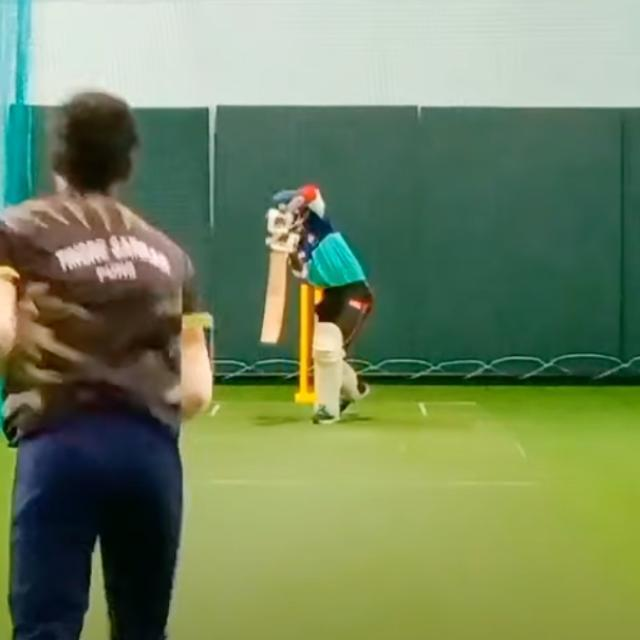bat: (260, 251, 290, 346)
toe: (259, 340, 281, 346)
